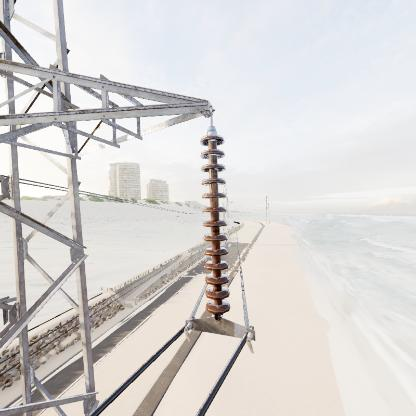insulator: (197, 131, 234, 322)
